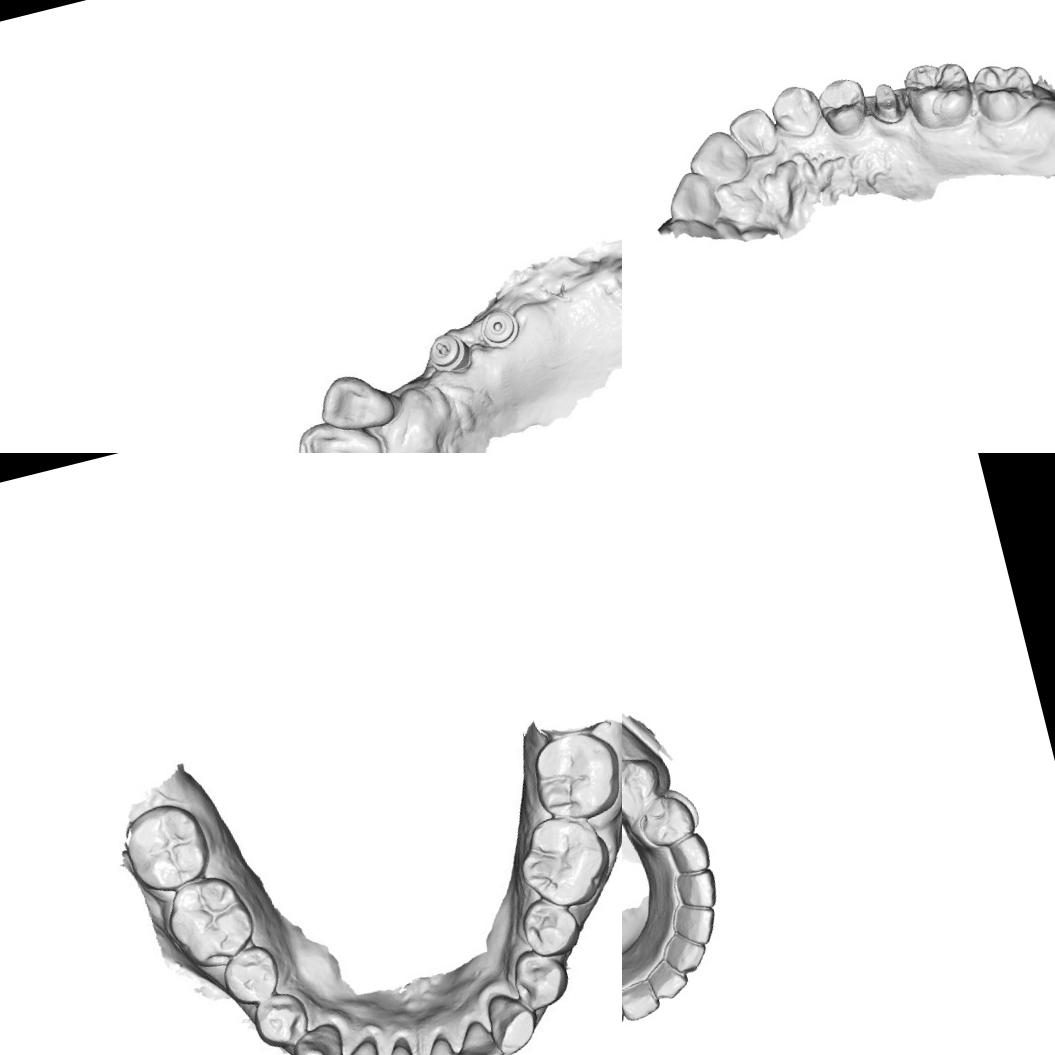canine: (479, 984, 545, 1055), (764, 78, 826, 145), (664, 828, 714, 878), (284, 1018, 349, 1055), (622, 975, 662, 1023)
crown: (864, 76, 910, 128)
implant: (476, 301, 524, 352)
implant_minus: (422, 324, 470, 374)
incisor: (309, 364, 400, 444), (679, 122, 754, 194), (289, 407, 390, 453), (659, 164, 726, 232), (722, 102, 782, 165), (666, 894, 722, 951), (657, 925, 711, 979), (669, 863, 722, 916), (643, 951, 692, 1004), (448, 1013, 503, 1055), (367, 1029, 428, 1055), (410, 1029, 468, 1055), (324, 1038, 387, 1055)
molar: (508, 806, 619, 917), (161, 870, 262, 973), (523, 722, 622, 827), (116, 796, 216, 896), (898, 52, 980, 135), (964, 51, 1044, 129)
premolar: (214, 940, 286, 1011), (512, 890, 584, 961), (506, 944, 571, 1016), (812, 70, 874, 142), (249, 985, 314, 1053), (634, 790, 700, 852), (622, 750, 668, 823)
